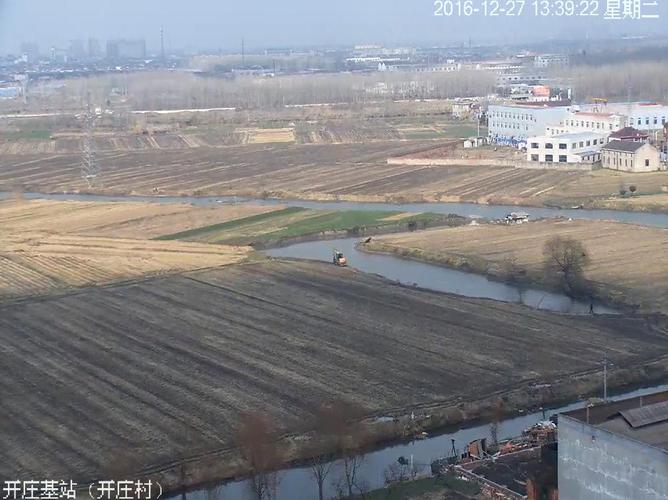digger: (328, 245, 348, 268)
